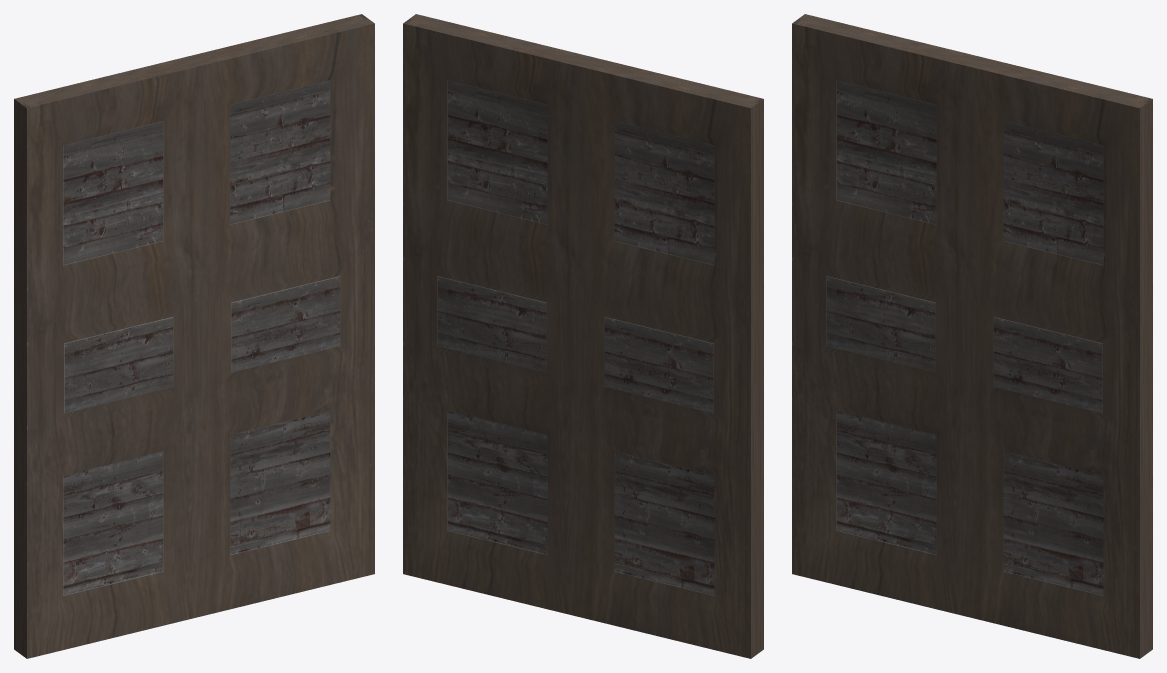
File: MDL_PortaCasa.fbx
The picture shows the model from 3 angles, left to right: view 1: azimuth 30°, elevation 25°; view 2: azimuth 150°, elevation 25°; view 3: azimuth 330°, elevation 25°; orthographic projection.
Parts seen in each view (by area): view 1: Porta6; view 2: Porta6; view 3: Porta6.
Part boxes in pixels (x1,y1,x2,y2): Porta6: [14, 14, 374, 658]; Porta6: [403, 14, 763, 658]; Porta6: [792, 14, 1152, 658].
Size of the model in its own units: 10.5 by 15.88 by 0.8127.
